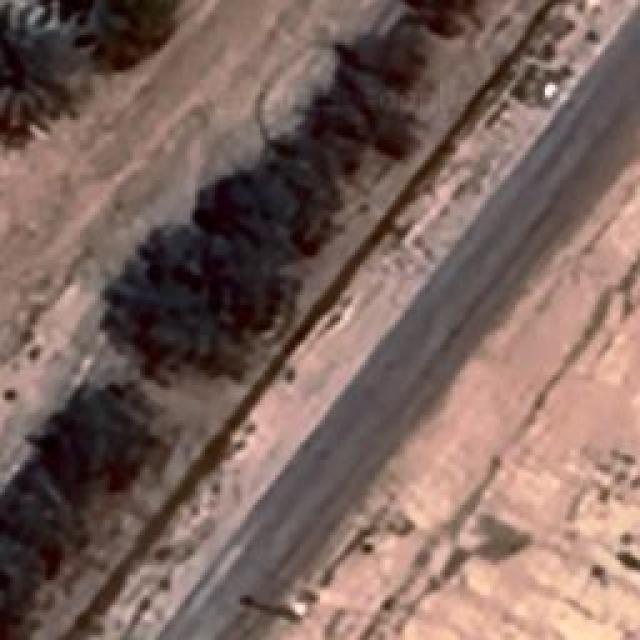PalmTree: (46, 68, 195, 298)
